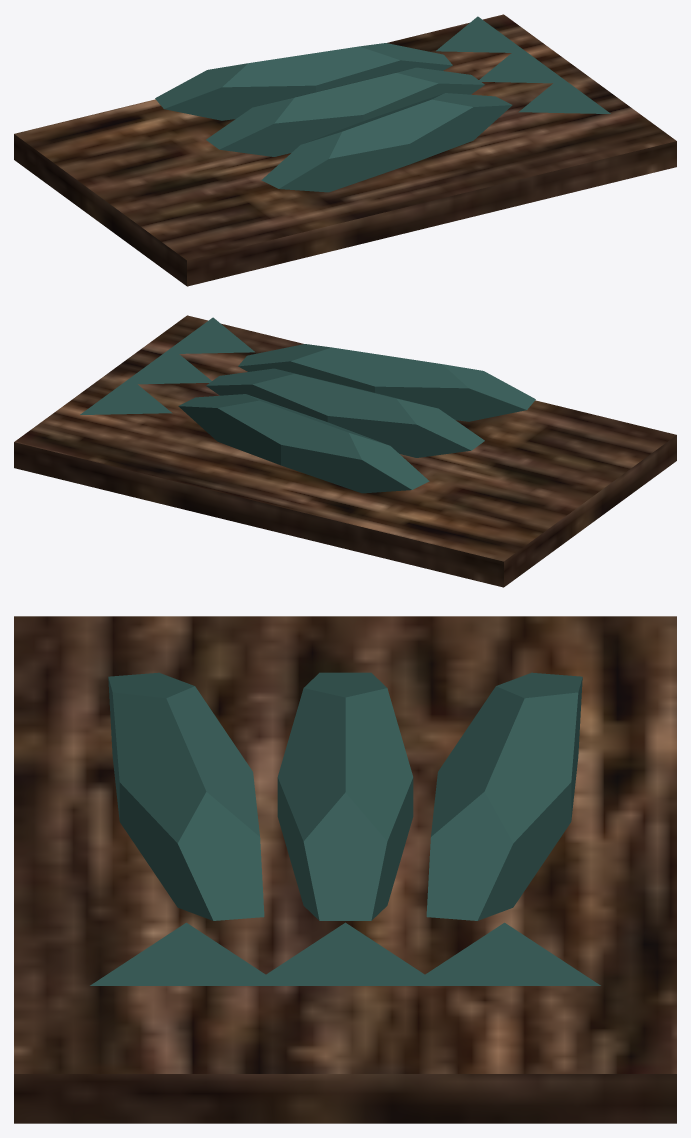
Rendered from fish.glb.
3 renders of one model, top to bottom at view 1: azimuth 30°, elevation 25°; view 2: azimuth 150°, elevation 25°; view 3: azimuth 270°, elevation 25°, orthographic. The views are drawn at different scales.
Visible parts, largest first — view 1: part_0, part_1; view 2: part_0, part_1; view 3: part_0, part_1.
Part boxes in pixels (<box>): part_0: <box>14,14,676,286</box>; part_1: <box>155,16,610,192</box>; part_0: <box>14,315,676,587</box>; part_1: <box>80,317,535,493</box>; part_0: <box>14,616,676,1123</box>; part_1: <box>90,672,600,985</box>.
Size of the model in its own units: 0.6712 by 0.1025 by 0.411.
2 materials, 1 textured.
